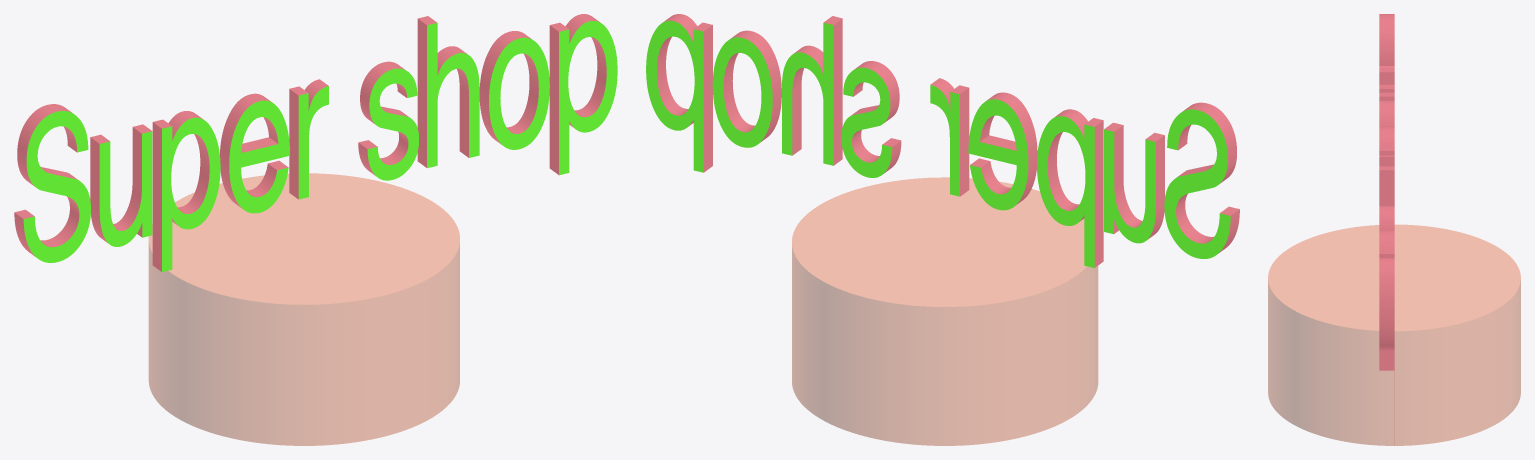
File: cK4gCSQXwWpkR5kg7SdjFol4.glb
3 views of the same model, side by side, from view 1: azimuth 30°, elevation 25°; view 2: azimuth 150°, elevation 25°; view 3: azimuth 270°, elevation 25° (orthographic). The views are drawn at different scales.
Size of the model in its own units: 440 by 239 by 200.
